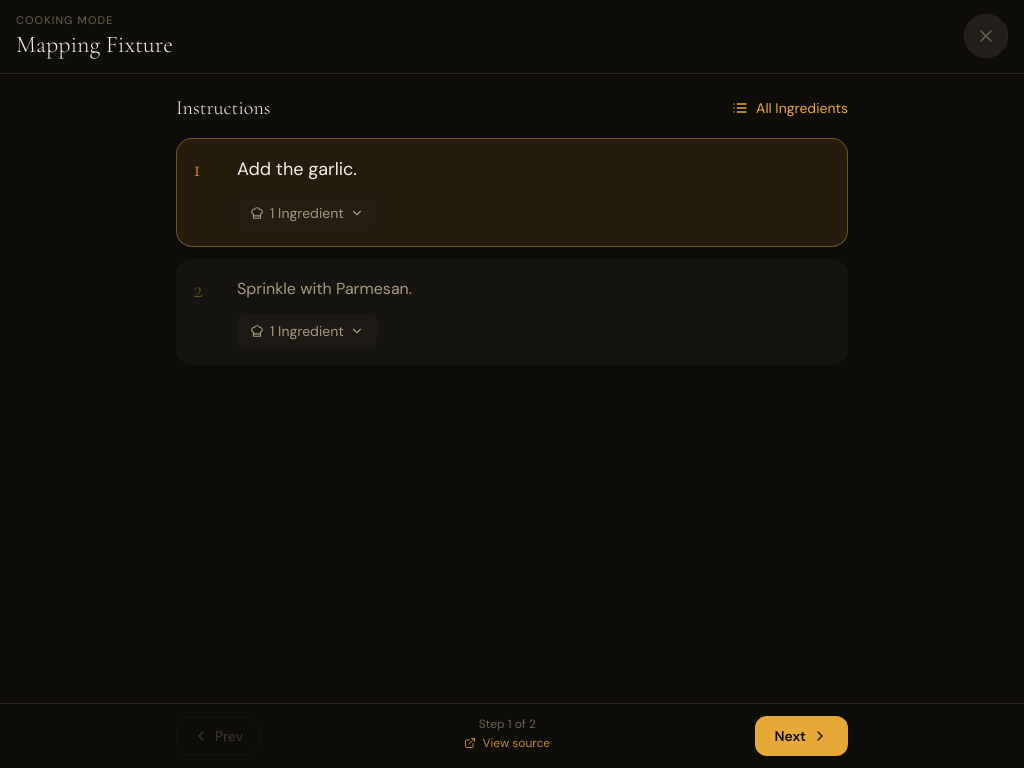
Cooking Mode mapping cutover › uses deterministic mapping for garlic and optional Parmesan without a stored map
The image size is (1024, 768).
What coordinates should you click on to do the following:
click the button "1 Ingredient" below "Add the garlic."
I would click on:
 (307, 213)
Its box is [237,196,377,230].
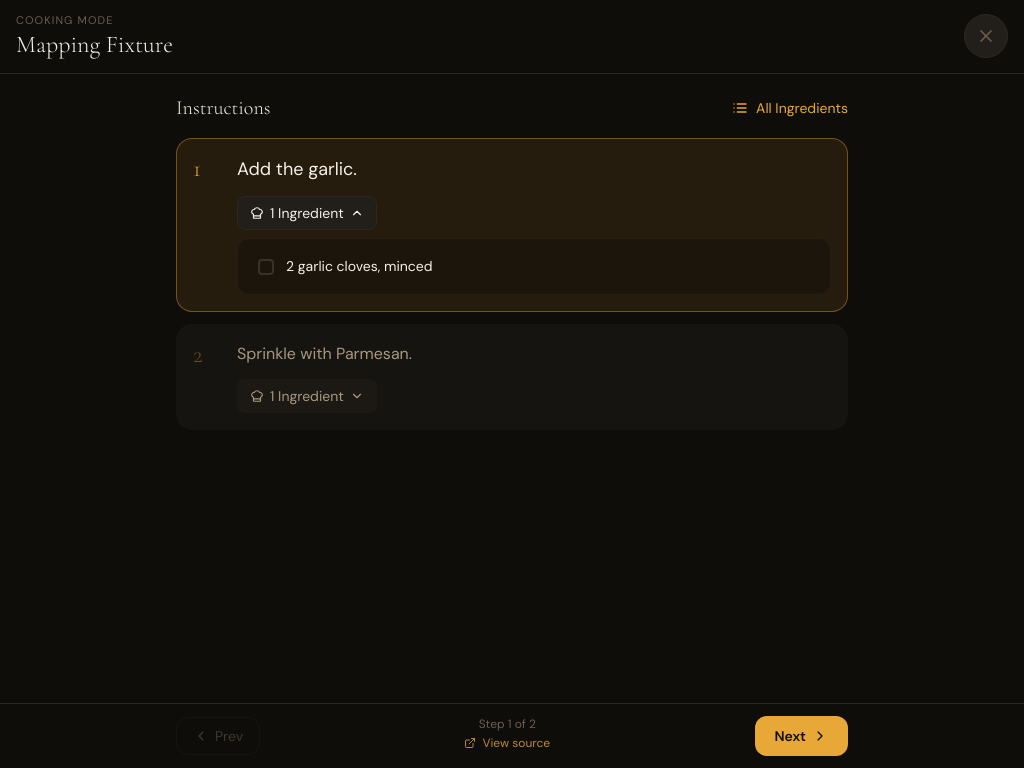
What coordinates should you click on to do the following:
click the button "1 Ingredient" below "Sprinkle with Parmesan."
I would click on:
 (307, 396)
Its box is [237,379,377,413].
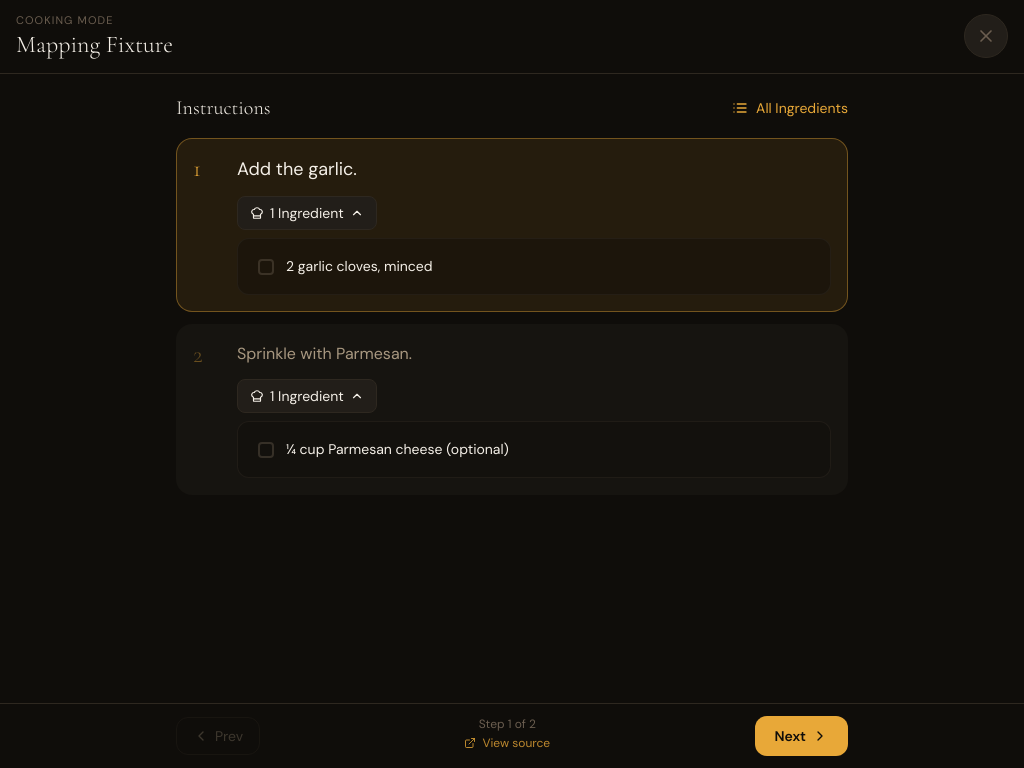
Result: the button "2 garlic cloves, minced" is shown at [250,251,818,282]
Result: the button "¼ cup Parmesan cheese (optional)" is shown at [250,434,818,465]
